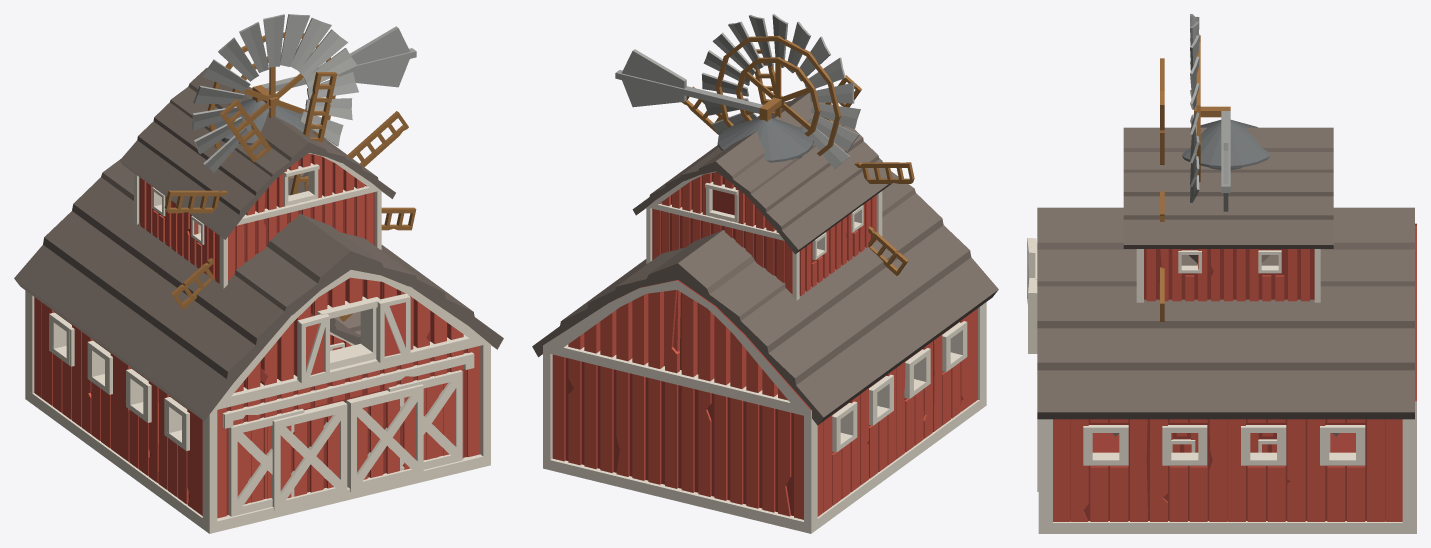
File: q_farm.glb
The picture shows the model from 3 angles, left to right: view 1: azimuth 30°, elevation 25°; view 2: azimuth 150°, elevation 25°; view 3: azimuth 270°, elevation 25°; orthographic projection. The views are drawn at different scales.
Parts seen in each view (by area): view 1: big_barn_mesh, barn_mesh, Blades, Blades.001, windmill_mesh, water_tower_mesh, small_barn_mesh; view 2: big_barn_mesh, Blades, barn_mesh, windmill_mesh, Blades.001, water_tower_mesh; view 3: barn_mesh, big_barn_mesh, water_tower_mesh, Blades, windmill_mesh, Blades.001, small_barn_mesh.
Boxes of the visible parts, x1,y1,x2,y2 form: big_barn_mesh: [14, 68, 493, 532]; barn_mesh: [30, 214, 503, 533]; Blades: [192, 14, 358, 172]; Blades.001: [164, 72, 416, 321]; windmill_mesh: [252, 26, 416, 105]; water_tower_mesh: [209, 98, 308, 190]; small_barn_mesh: [330, 318, 360, 402]; big_barn_mesh: [532, 93, 996, 533]; Blades: [701, 14, 860, 169]; barn_mesh: [536, 158, 998, 520]; windmill_mesh: [615, 49, 781, 121]; Blades.001: [682, 49, 914, 275]; water_tower_mesh: [717, 118, 813, 162]; barn_mesh: [1027, 207, 1413, 533]; big_barn_mesh: [1030, 127, 1416, 533]; water_tower_mesh: [1182, 120, 1269, 170]; Blades: [1190, 14, 1200, 202]; windmill_mesh: [1194, 106, 1230, 211]; Blades.001: [1160, 58, 1164, 321]; small_barn_mesh: [1171, 433, 1276, 452].
Bounding box in the file's own units: 6.07 × 8.06 × 6.47.
